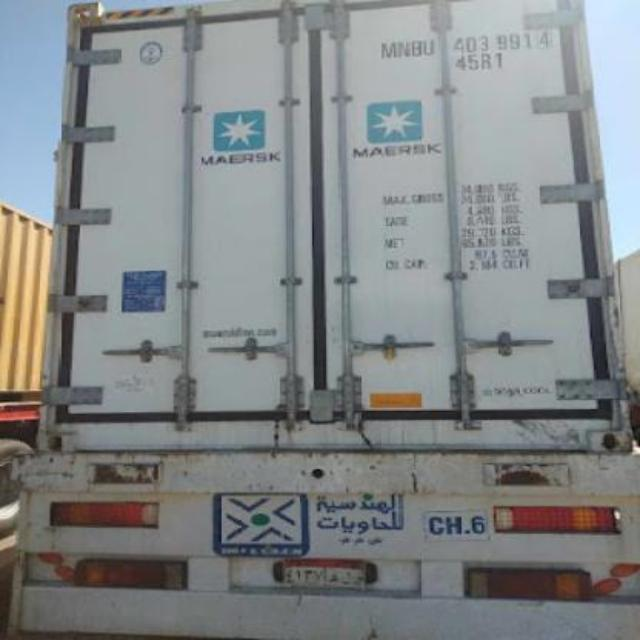0: (466, 35, 479, 51)
1: (522, 30, 536, 51)
3: (478, 34, 492, 54)
4: (446, 34, 464, 54), (540, 32, 552, 52)
9: (496, 33, 508, 51), (510, 33, 522, 51)
B: (412, 39, 424, 59)
M: (378, 37, 398, 63)
N: (398, 40, 412, 58)
U: (422, 36, 438, 58)
